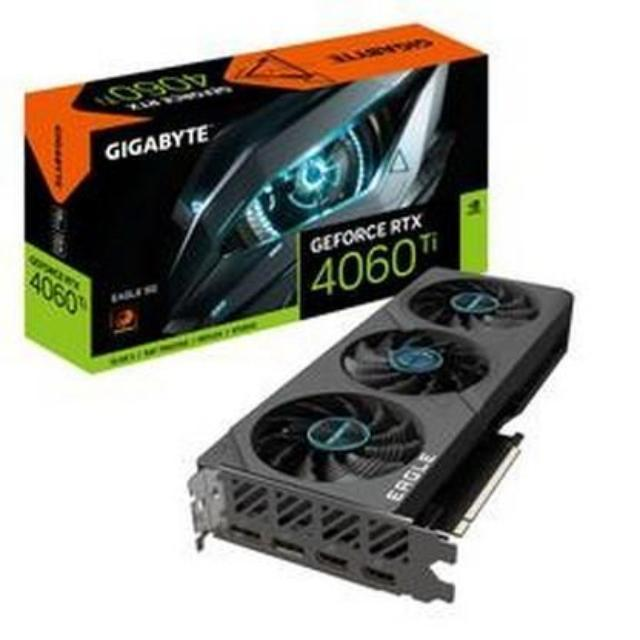GPU: (178, 262, 578, 590)
